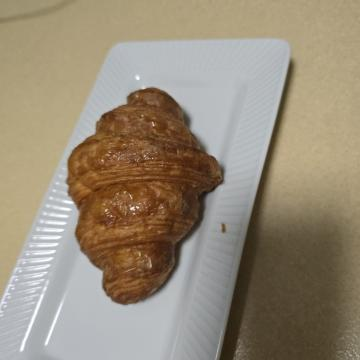croissant: (82, 130, 315, 298)
